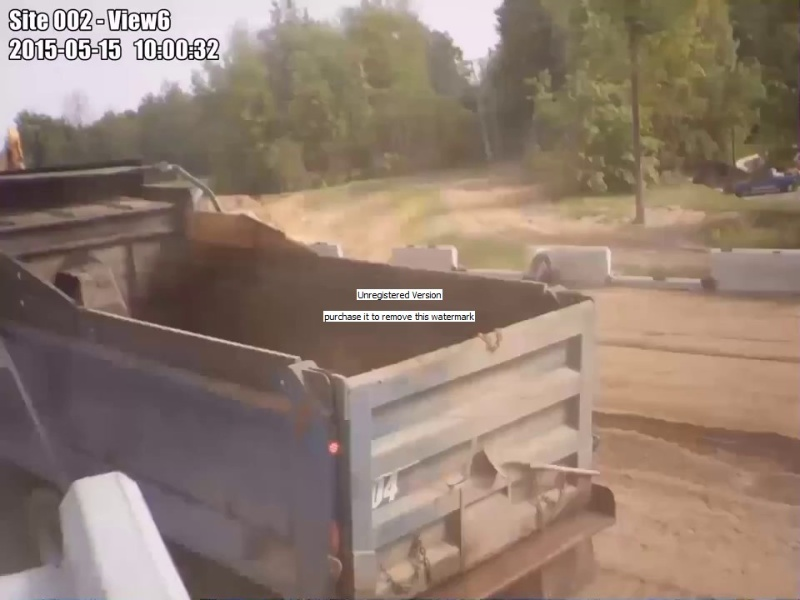dumptruck: (1, 158, 617, 600)
truck: (732, 169, 793, 195)
wall: (533, 245, 800, 296)
